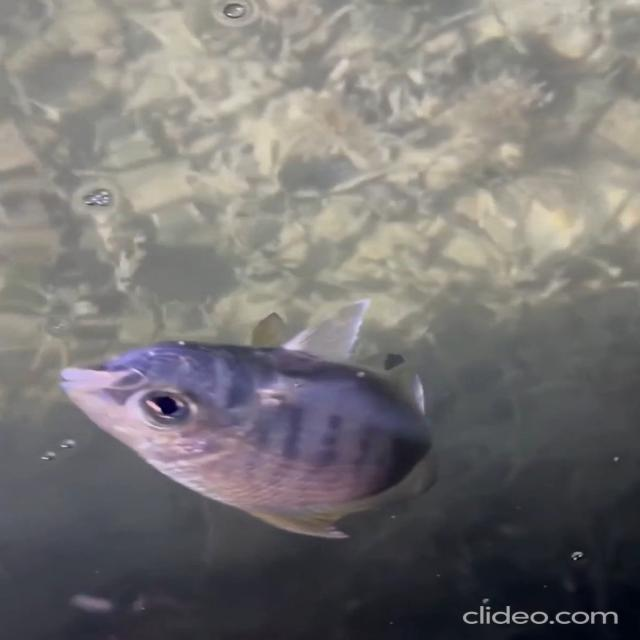fish: (29, 298, 458, 543)
